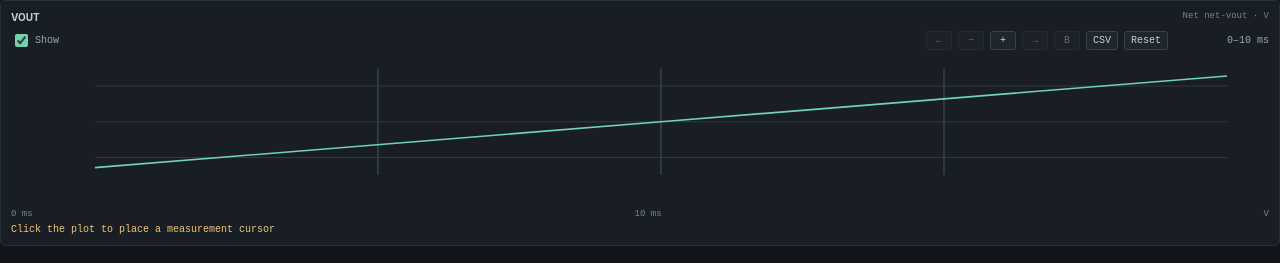
it: waveform viewer › zooms and pans the displayed time range without changing simulation samples
Expected: the text named "Time range for VOUT" reads "0–10 ms", [1227,35,1269,46]
Step 1. Click the button named "Zoom in VOUT" → (1003, 40), box [990,31,1016,50]
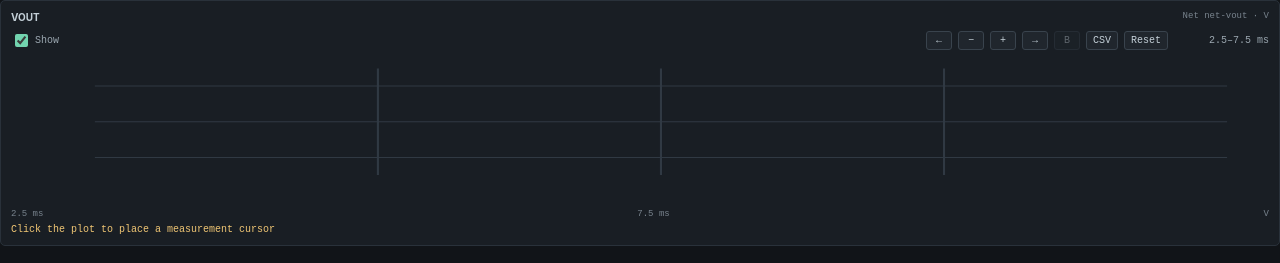
Now the text named "Time range for VOUT" reads "2.5–7.5 ms", box [1209,35,1269,46]
Step 2. Click the button named "Pan later VOUT" → (1035, 40), box [1022,31,1048,50]
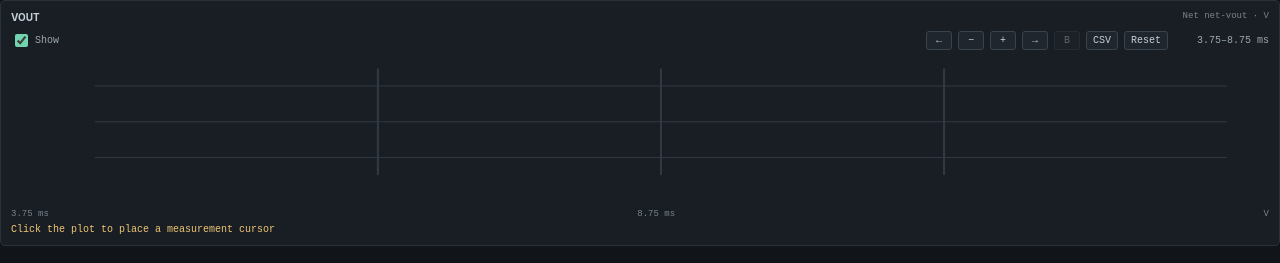
Now the text named "Time range for VOUT" reads "3.75–8.75 ms", box [1197,35,1269,46]
